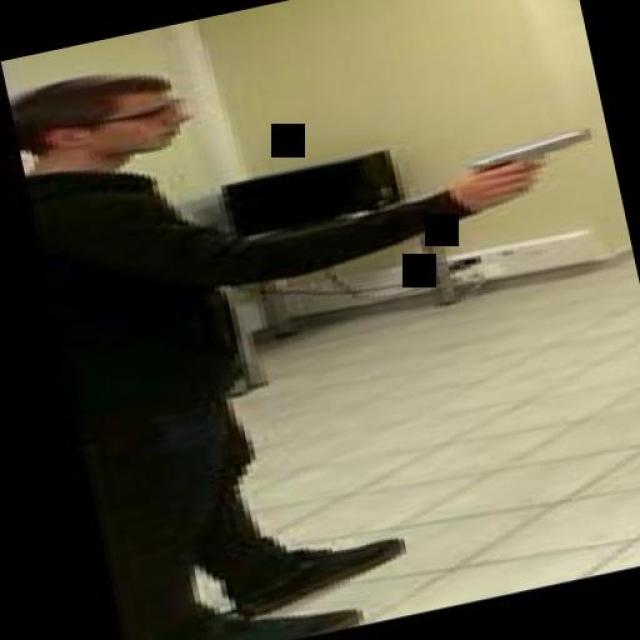gun: (452, 122, 602, 208)
